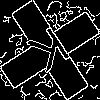K: (25, 25, 79, 82)
